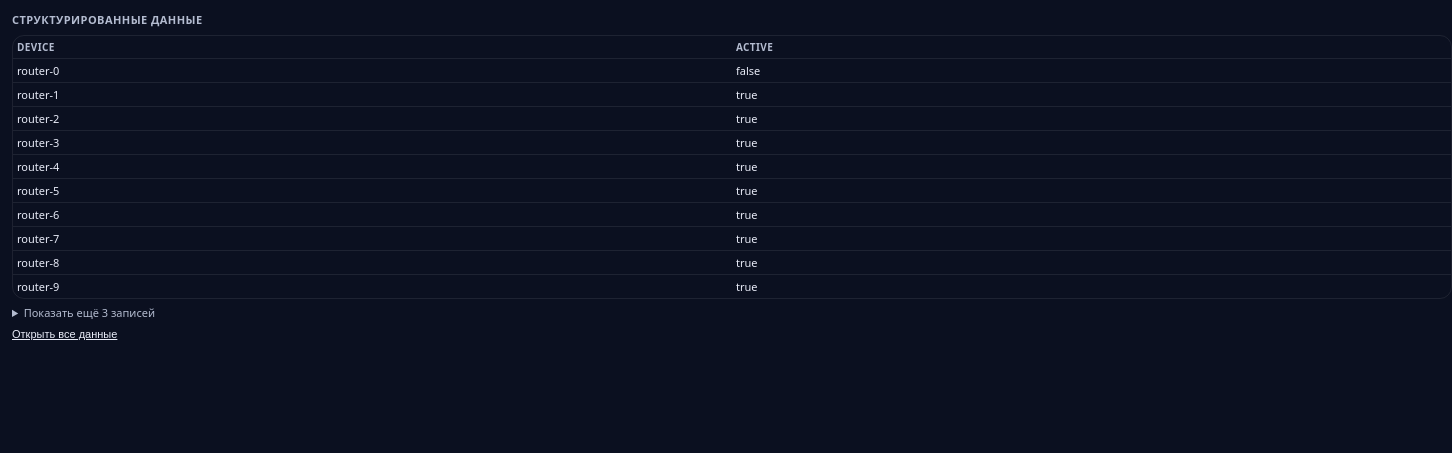
Test: AgentResultViewer › renders record arrays as a bounded responsive table with a full data action
This screenshot has width=1452, height=453.
Expected: the column heading "Device" is shown, [13,36,732,58]
Expected: the column heading "Active" is shown, [732,36,1451,58]
Click the heading "Показать ещё 3 записей".
click(89, 312)  # box [24,305,155,320]
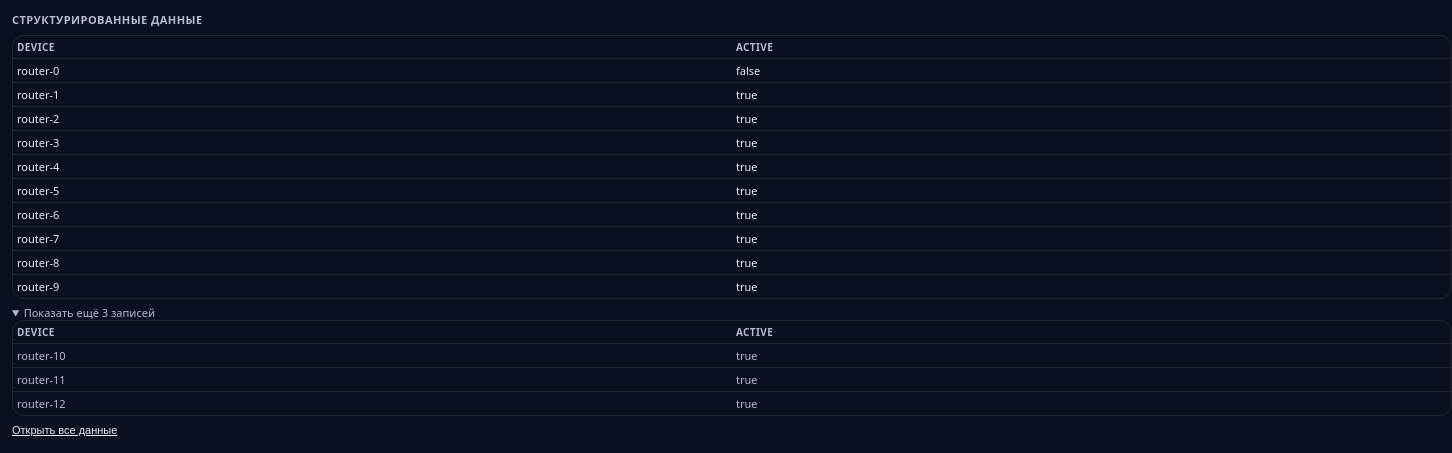
Expected: the text "router-10" is shown, [13,344,732,368]
Expected: the text "router-12" is shown, [13,392,732,415]
